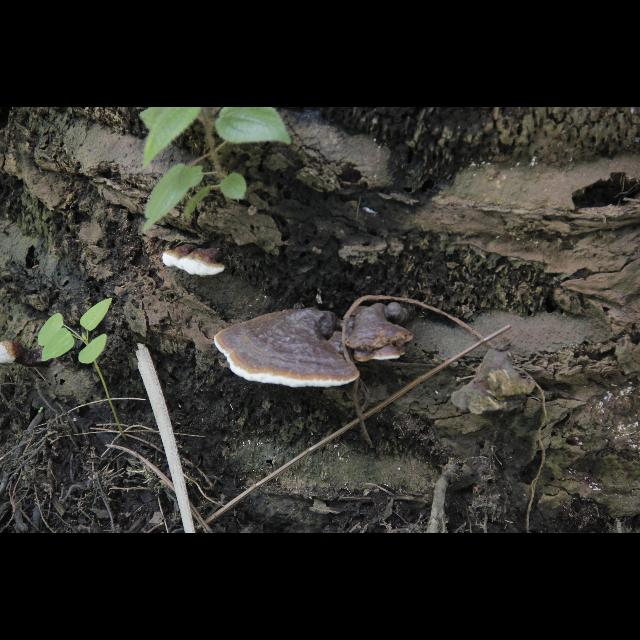ganoderma: (215, 308, 361, 390), (341, 303, 416, 364), (162, 244, 226, 278)
primordium: (1, 342, 25, 368)
